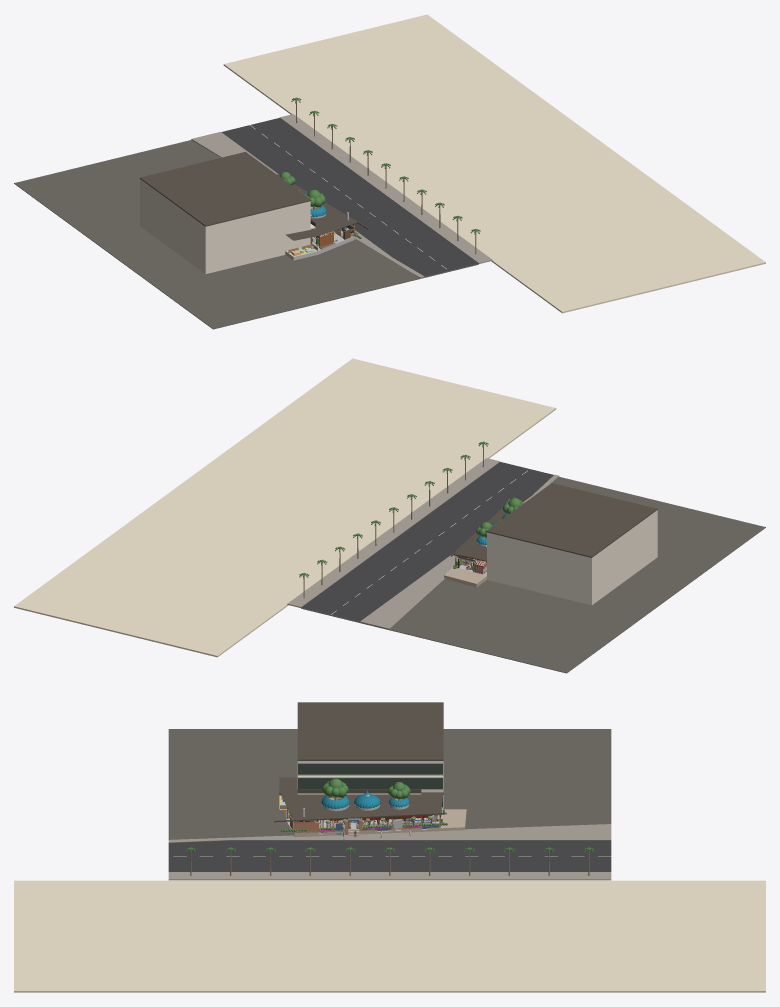
File: samarkand-base3d-R12.fbx
The picture shows the model from 3 angles, top to bottom: view 1: azimuth 30°, elevation 25°; view 2: azimuth 150°, elevation 25°; view 3: azimuth 270°, elevation 25°; orthographic projection. The views are drawn at different scales.
Parts seen in each view (by area): view 1: beach_sand, ground, road, building_hall, parapet, beach_promenade, sidewalk, roof_panel_0; view 2: beach_sand, ground, road, building_hall, parapet, beach_promenade, sidewalk; view 3: beach_sand, ground, road, parapet, sidewalk, beach_promenade, facade_glass, roof_panel_0, building_hall, roof_panel_6, driveway.
Part boxes in pixels (x1,y1,x2,y2): beach_sand: (223,14,765,313); ground: (14,140,478,329); road: (221,118,478,276); building_hall: (140,179,310,274); parapet: (140,152,311,226); beach_promenade: (279,114,492,263); sidewalk: (191,132,424,278); roof_panel_0: (285,213,357,240); beach_sand: (14,358,556,657); ground: (301,477,765,673); road: (301,462,553,621); building_hall: (487,510,657,605); parapet: (486,483,657,557); beach_promenade: (287,458,500,607); sidewalk: (360,474,559,629); beach_sand: (14,880,765,992); ground: (168,729,611,839); road: (168,840,611,871); parapet: (297,702,443,760); sidewalk: (168,824,611,842); beach_promenade: (168,872,611,880); facade_glass: (298,763,442,807); roof_panel_0: (279,777,322,820); building_hall: (297,761,443,808); roof_panel_6: (409,792,443,814); driveway: (440,809,466,830).
Size of what is drawn, in the model's own units: 14000 by 1390 by 17000.
